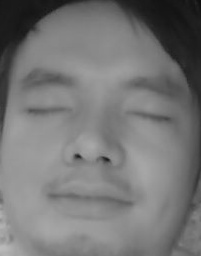blink: (127, 100, 169, 126), (27, 97, 66, 121)
mouth: (48, 171, 136, 220)
